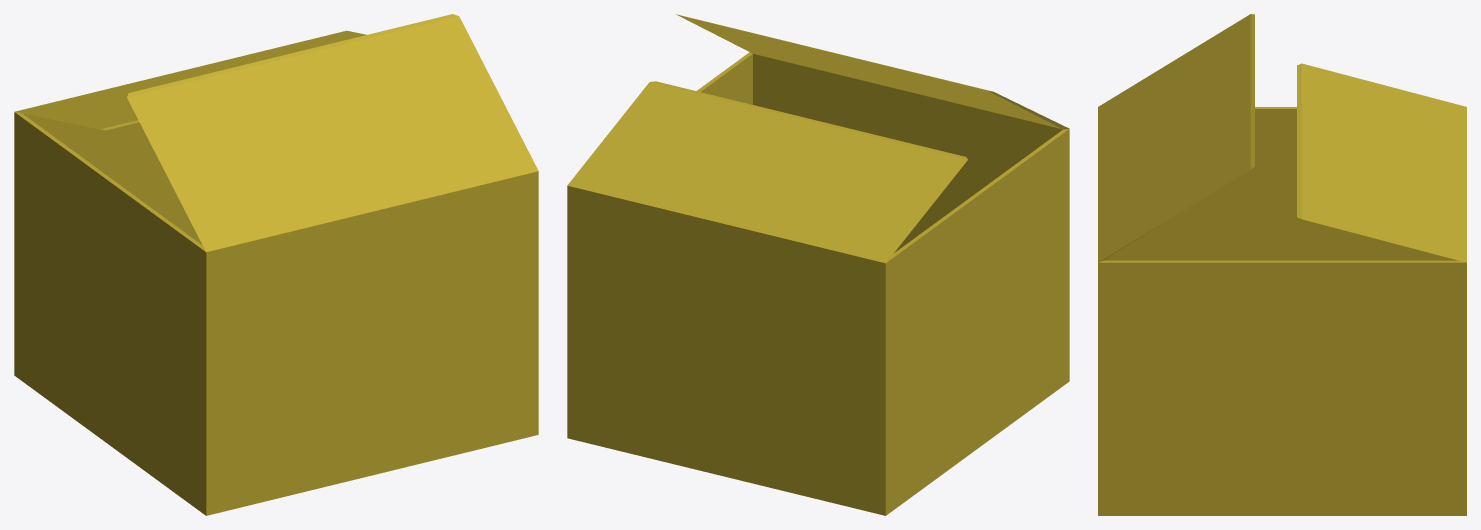
The picture shows the model from 3 angles, left to right: view 1: azimuth 30°, elevation 25°; view 2: azimuth 150°, elevation 25°; view 3: azimuth 270°, elevation 25°; orthographic projection. The views are drawn at different scales.
Parts seen in each view (by area): view 1: Plane; view 2: Plane; view 3: Plane.
Part boxes in pixels (x1=…): Plane: x1=14, y1=14, x2=538, y2=515; Plane: x1=567, y1=14, x2=1069, y2=515; Plane: x1=1098, y1=14, x2=1466, y2=515.
Size of the model in its own units: 200 by 208 by 200.
